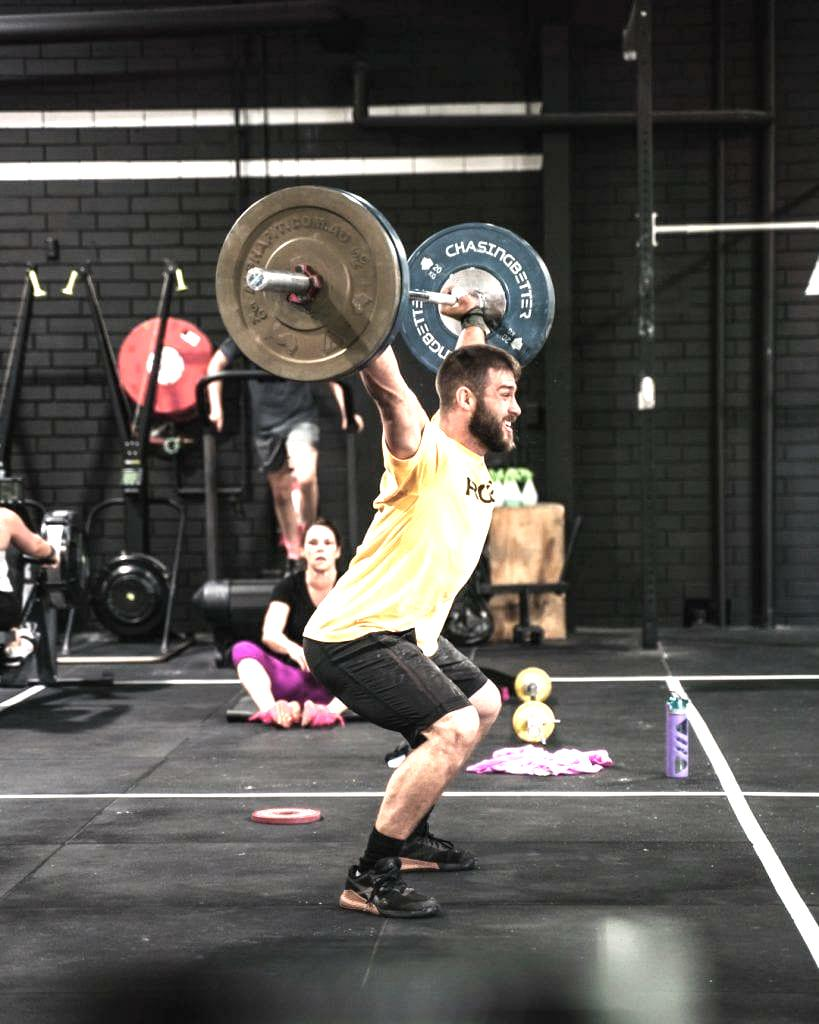Barbell: (238, 263, 271, 294)
